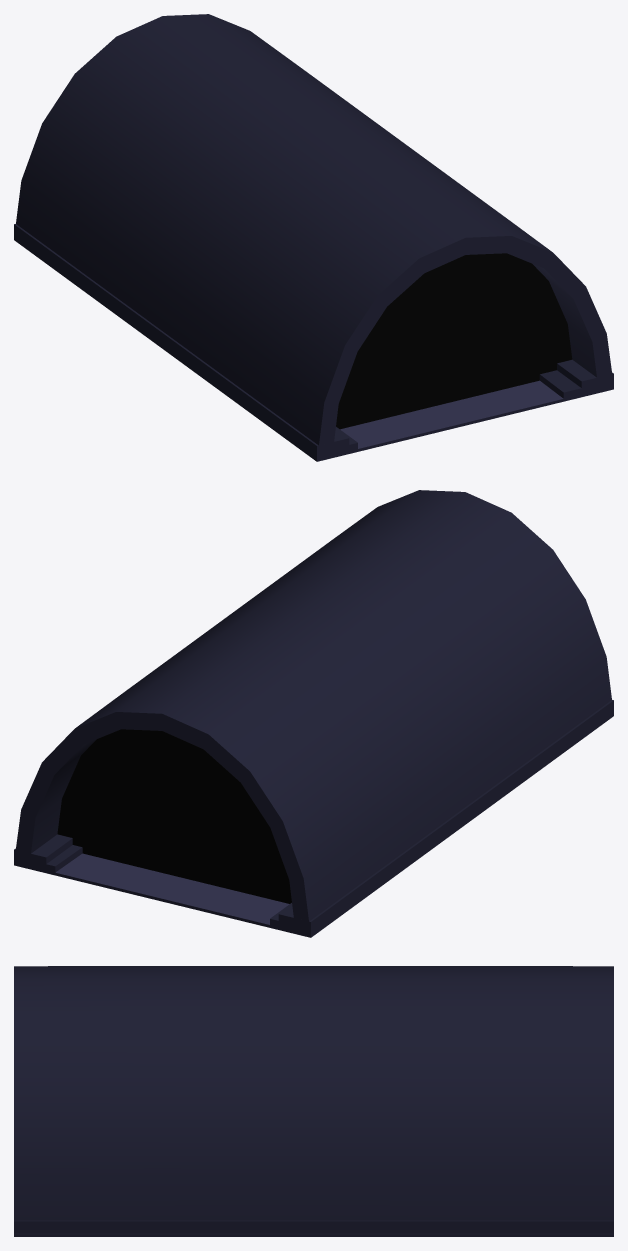
Rendered from tunnel.obj.
3 views of the same model, one above another, from view 1: azimuth 30°, elevation 25°; view 2: azimuth 150°, elevation 25°; view 3: azimuth 270°, elevation 25° (orthographic).
Visible parts, largest first — view 1: tunnel_Road_Mesh.006; view 2: tunnel_Road_Mesh.006; view 3: tunnel_Road_Mesh.006.
Boxes of the visible parts, x1,y1,x2,y2 form: tunnel_Road_Mesh.006: [14, 14, 613, 461]; tunnel_Road_Mesh.006: [14, 490, 613, 937]; tunnel_Road_Mesh.006: [14, 966, 613, 1236].
Bounding box in the file's own units: 45.27 × 27.4 × 79.99.
